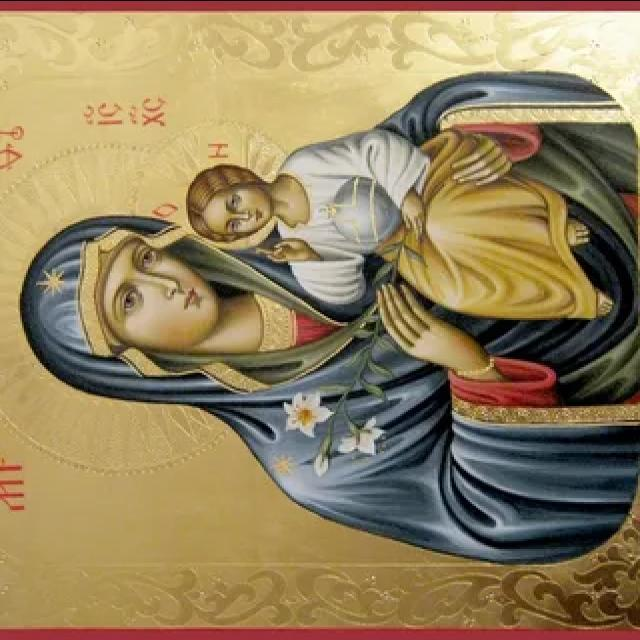mother of god: (18, 66, 640, 572)
